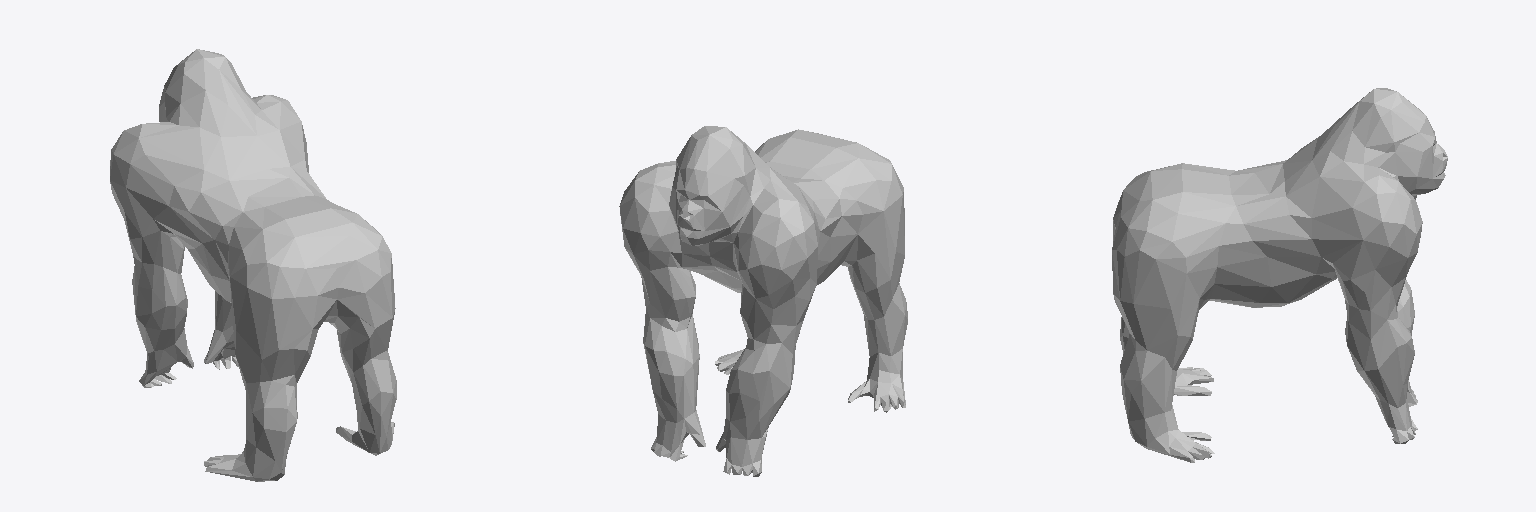
The model's file is gorilla.obj.
3 renders of one model, left to right at view 1: azimuth 30°, elevation 25°; view 2: azimuth 150°, elevation 25°; view 3: azimuth 270°, elevation 25°, orthographic.
Visible parts, largest first — view 1: gorilla; view 2: gorilla; view 3: gorilla.
Boxes of the visible parts, x1,y1,x2,y2 form: gorilla: [110, 49, 396, 481]; gorilla: [619, 126, 907, 476]; gorilla: [1112, 88, 1447, 462].
Size of the model in its own units: 64.76 by 108 by 99.92.